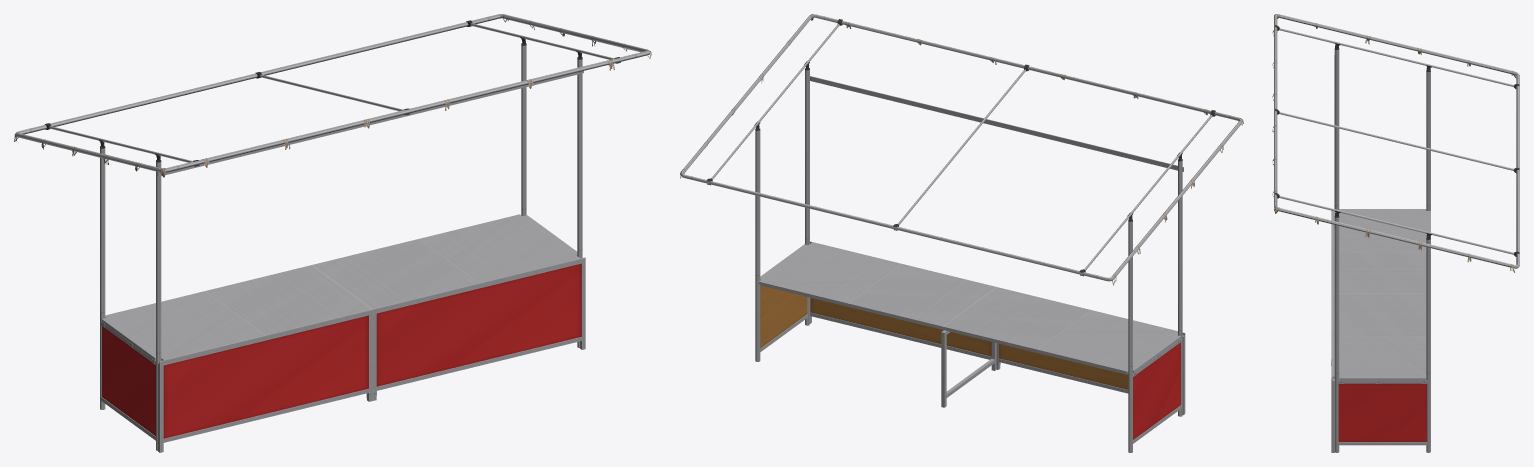
The model's file is jsf_4P_s04_c06_t01.fbx.
The picture shows the model from 3 angles, left to right: view 1: azimuth 30°, elevation 25°; view 2: azimuth 150°, elevation 25°; view 3: azimuth 270°, elevation 25°; orthographic projection. The views are drawn at different scales.
Parts seen in each view (by area): view 1: Base_s04_c06, Table_4P_s04_t01, Pillar4_s04, Rope_4P_s04; view 2: Table_4P_s04_t01, Pillar4_s04, Base_s04_c06, Support; view 3: Table_4P_s04_t01, Pillar4_s04, Base_s04_c06, Rope_4P_s04.
Boxes of the visible parts, x1,y1,x2,y2 form: Base_s04_c06: (100,257,585,452); Table_4P_s04_t01: (101,214,579,364); Pillar4_s04: (14,14,649,450); Rope_4P_s04: (14,14,651,177); Table_4P_s04_t01: (758,242,1181,376); Pillar4_s04: (680,14,1242,452); Base_s04_c06: (760,241,1185,443); Support: (941,330,996,407); Table_4P_s04_t01: (1332,209,1430,383); Pillar4_s04: (1274,14,1519,452); Base_s04_c06: (1331,210,1427,452); Rope_4P_s04: (1272,14,1516,272).
Size of the model in its own units: 395 by 243 by 211.
